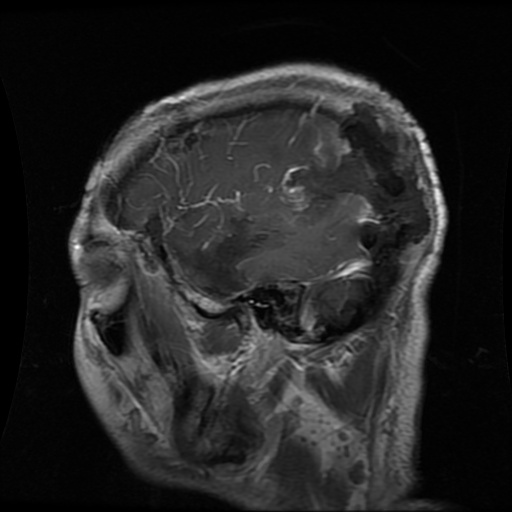glioma: (287, 106, 420, 222)
